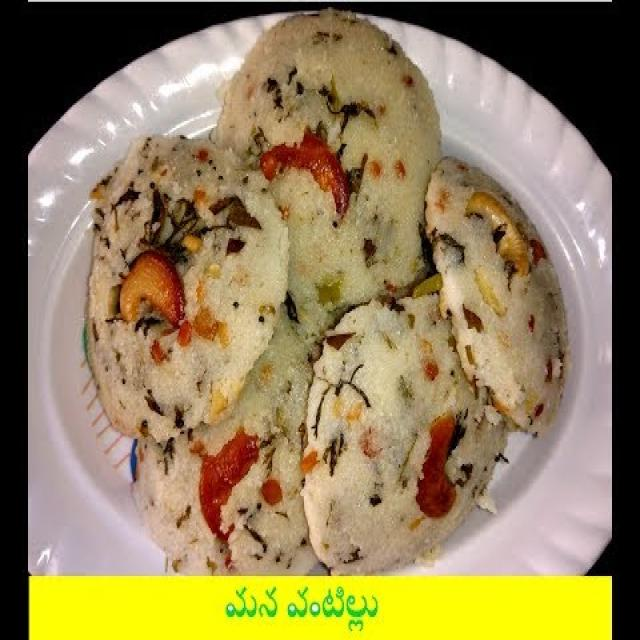rave idli: (80, 124, 294, 450), (215, 10, 440, 290), (301, 281, 510, 581), (122, 312, 324, 583), (418, 148, 568, 441)
